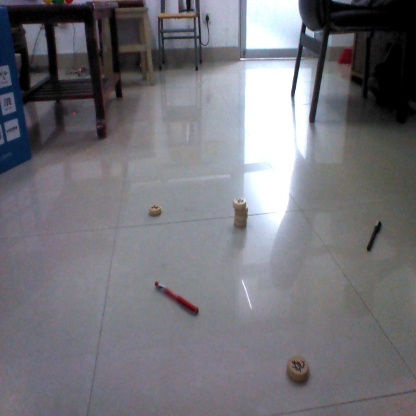chess: (229, 200, 254, 230), (287, 354, 311, 379), (148, 203, 165, 216)
pen: (153, 282, 201, 316), (361, 221, 384, 252)
